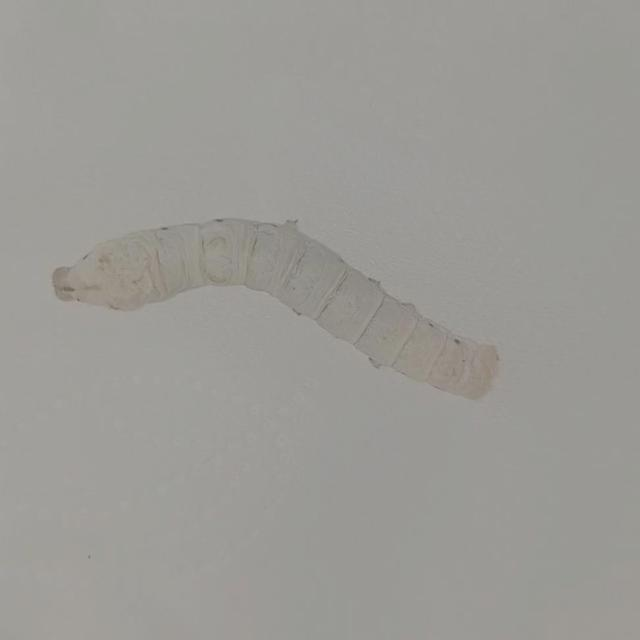Healthy: (45, 206, 504, 404)
